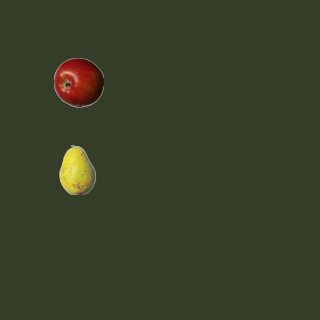Apple Braeburn: (53, 57, 103, 107)
Pear Monster: (52, 144, 102, 194)
